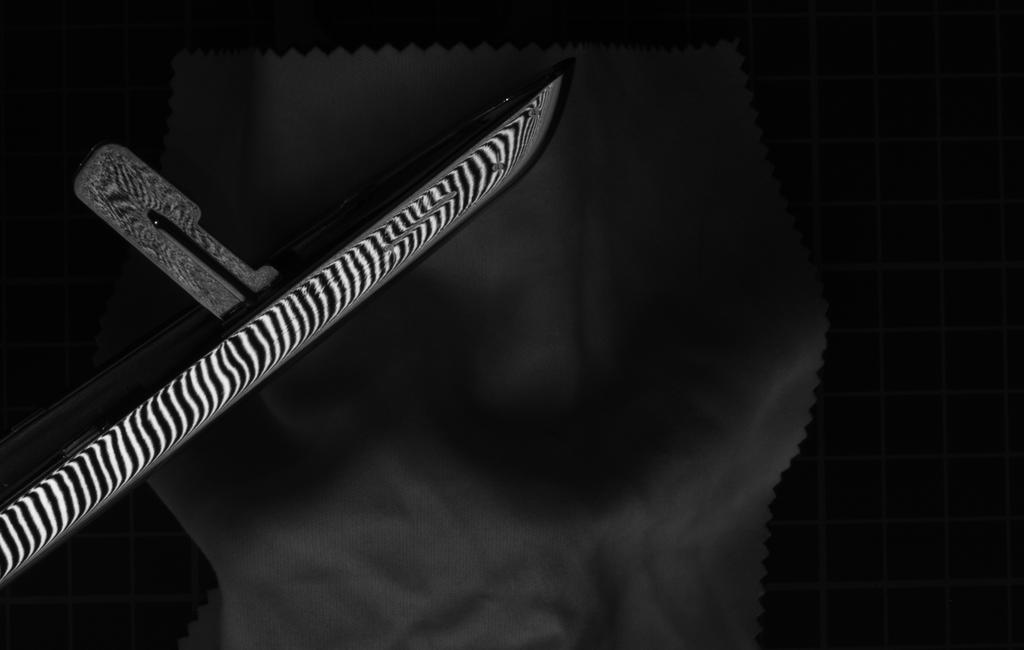Pierced: (484, 155, 509, 176), (526, 98, 545, 120)
Scratch: (380, 185, 461, 256)
